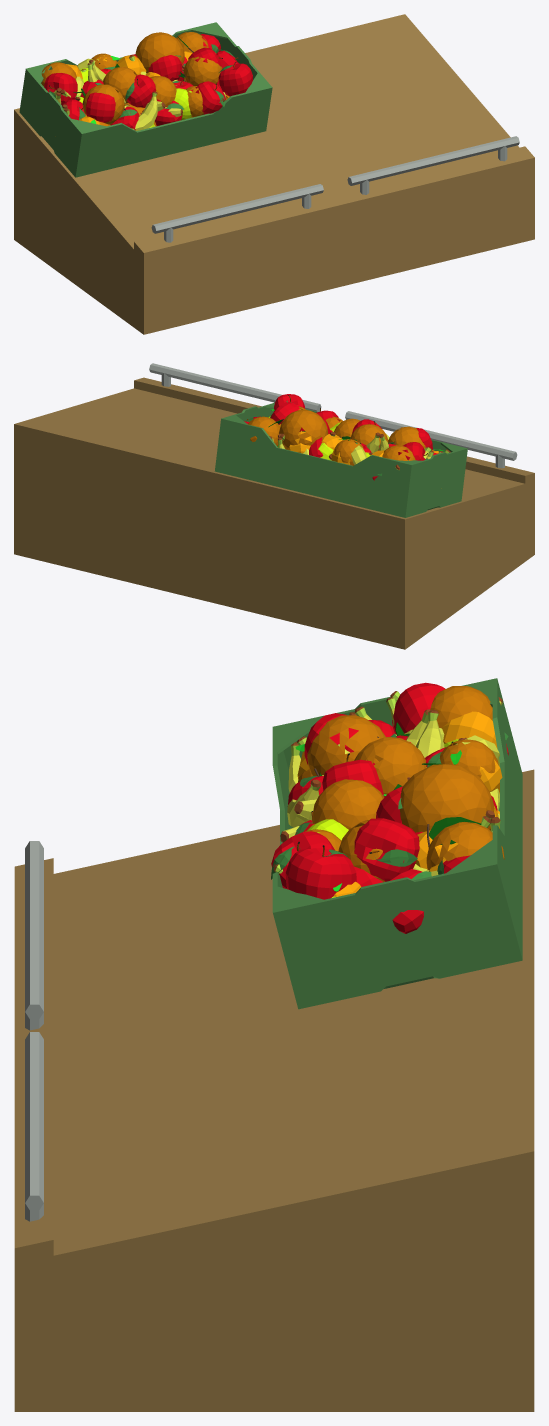
File: O&G_Regal.glb
3 renders of one model, top to bottom at view 1: azimuth 30°, elevation 25°; view 2: azimuth 150°, elevation 25°; view 3: azimuth 270°, elevation 25°, orthographic. The views are drawn at different scales.
Parts seen in each view (by area): view 1: Holzsockel, Plane.002, Apple.035, Coconut_Coconut_0.006, Metallstangen, banana_01_Yellow_0.027, Orange.029, Sphere.019; view 2: Holzsockel, Plane.002, Coconut_Coconut_0.006, Metallstangen, Apple.035, banana_01_Yellow_0.027, Orange.029; view 3: Holzsockel, Plane.002, Coconut_Coconut_0.006, Apple.035, Metallstangen, banana_01_Yellow_0.027, Orange.029, Sphere.019.
Boxes of the visible parts, box(x1,y1,x2,y2) form: Holzsockel: box(14, 14, 534, 334); Plane.002: box(19, 22, 272, 177); Apple.035: box(44, 34, 252, 130); Coconut_Coconut_0.006: box(41, 32, 229, 126); Metallstangen: box(151, 136, 519, 242); banana_01_Yellow_0.027: box(53, 55, 226, 130); Orange.029: box(55, 51, 227, 136); Sphere.019: box(73, 36, 193, 127); Holzsockel: box(14, 377, 534, 649); Plane.002: box(214, 402, 467, 517); Coconut_Coconut_0.006: box(248, 406, 425, 465); Metallstangen: box(149, 363, 517, 468); Apple.035: box(244, 394, 437, 480); banana_01_Yellow_0.027: box(269, 422, 450, 470); Orange.029: box(271, 409, 444, 464); Holzsockel: box(14, 769, 534, 1411); Plane.002: box(272, 678, 522, 1009); Coconut_Coconut_0.006: box(298, 686, 504, 882); Apple.035: box(271, 682, 508, 933); Metallstangen: box(25, 841, 43, 1221); banana_01_Yellow_0.027: box(273, 691, 502, 876); Orange.029: box(295, 711, 502, 896); Sphere.019: box(307, 722, 481, 897).
Size of the model in its own units: 1.83 by 0.8578 by 1.05.
16 materials, 3 textured.
